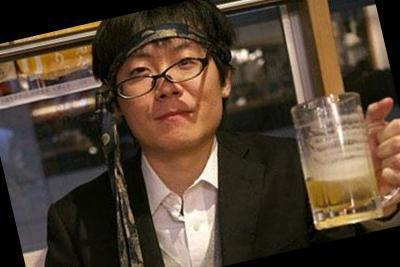Drunk: (118, 42, 223, 148)
